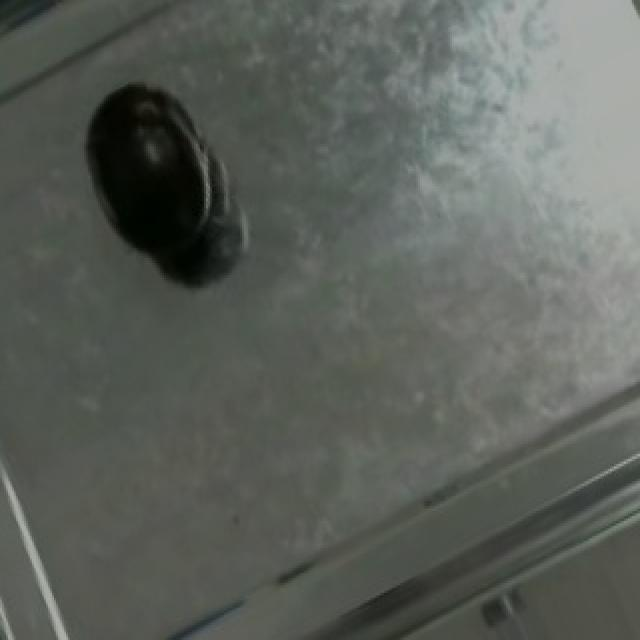Fruit: (62, 62, 228, 283)
